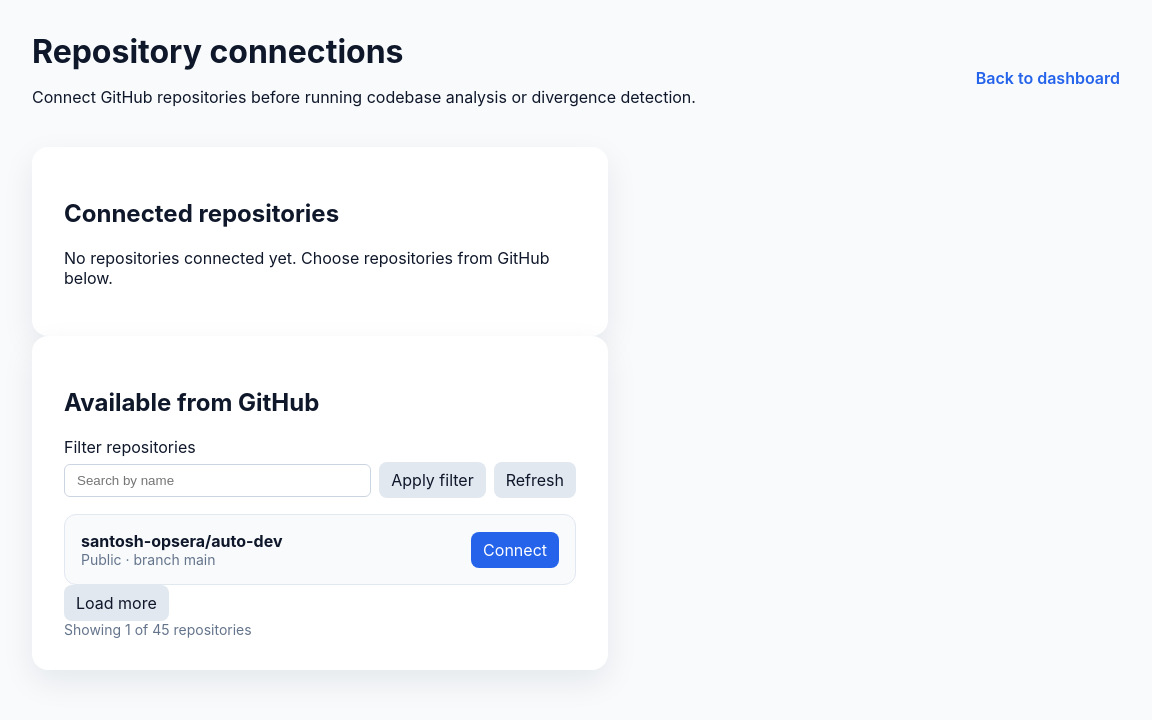
Test: RepositoriesPage › resets to page 1 when a filter is applied
This screenshot has width=1152, height=720.
Expected: the text "santosh-opsera/auto-dev" is shown, left=81, top=531, right=282, bottom=551
Type "platform" into the search field labelled "Filter repositories" at coordinates (218, 480), box left=64, top=464, right=371, bottom=497
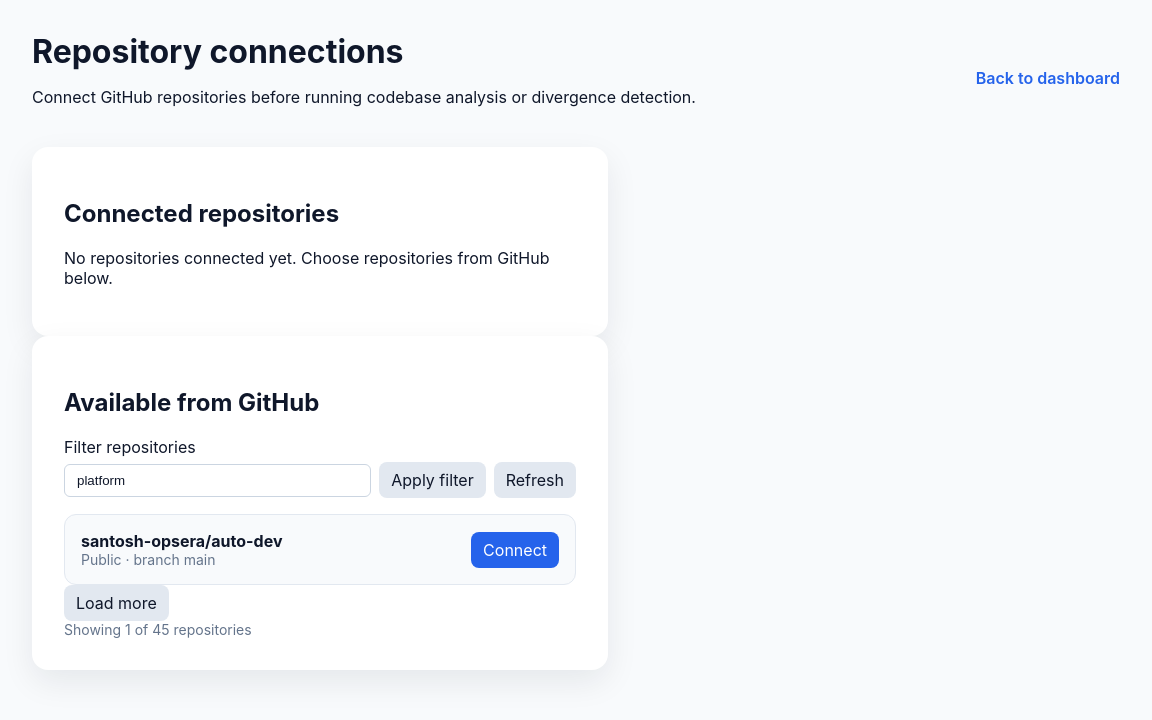
Click the button "Apply filter" at coordinates (432, 480), box left=379, top=462, right=486, bottom=498
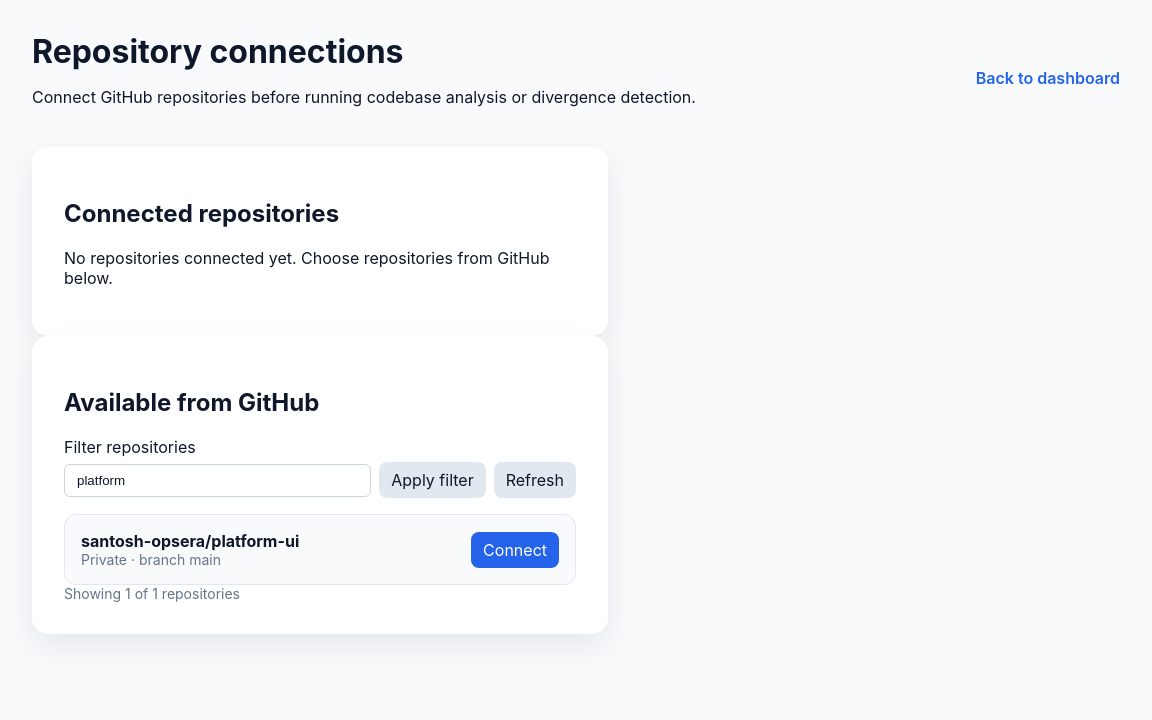
Expected: the text "santosh-opsera/platform-ui" is shown, left=81, top=531, right=299, bottom=551
